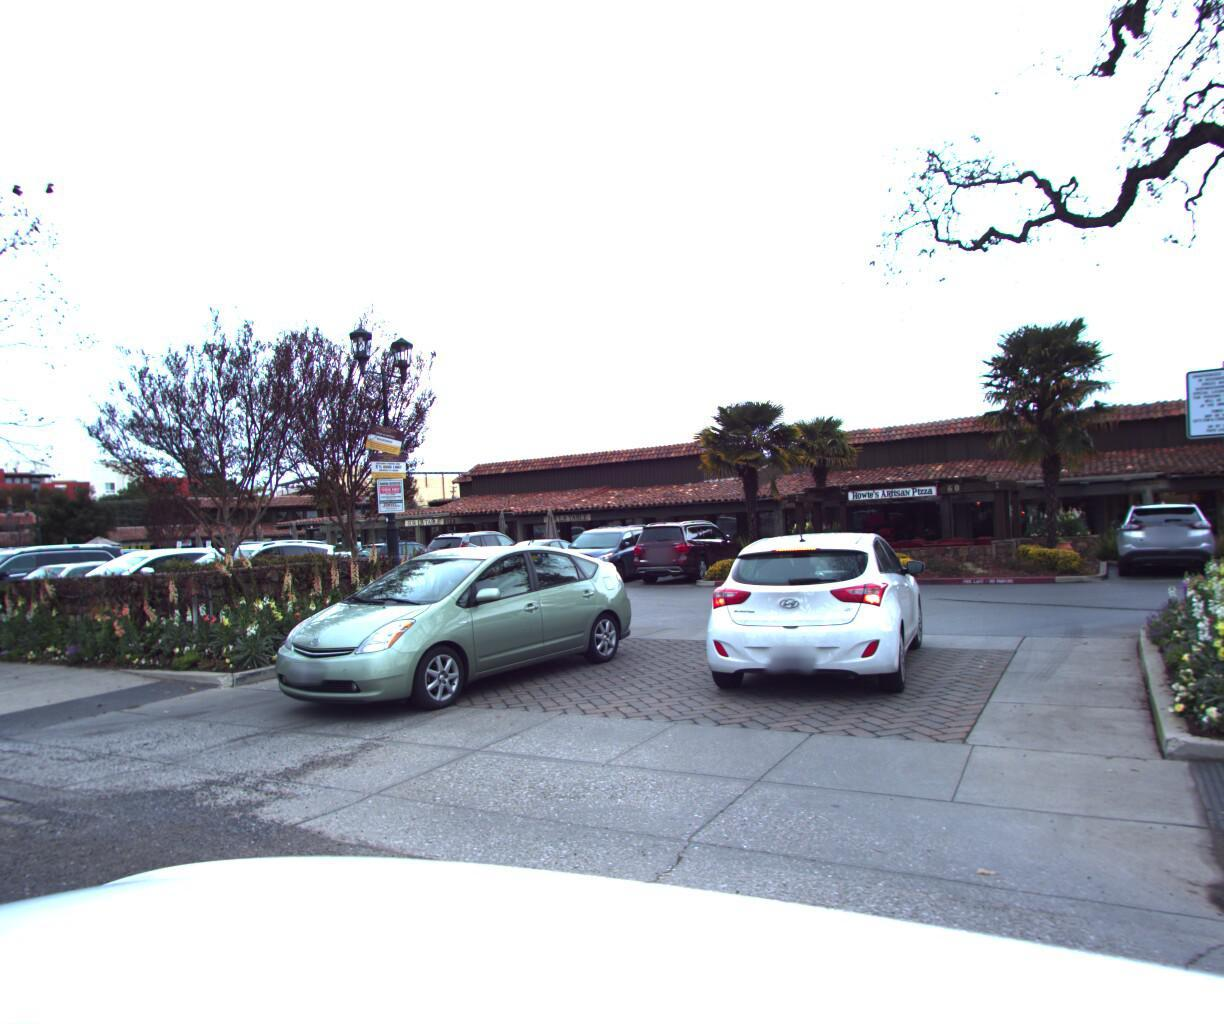car: (252, 530, 653, 726), (691, 520, 924, 708), (16, 535, 261, 627), (129, 528, 349, 619), (0, 548, 176, 625), (0, 532, 145, 623), (0, 538, 63, 625), (0, 547, 5, 617)
